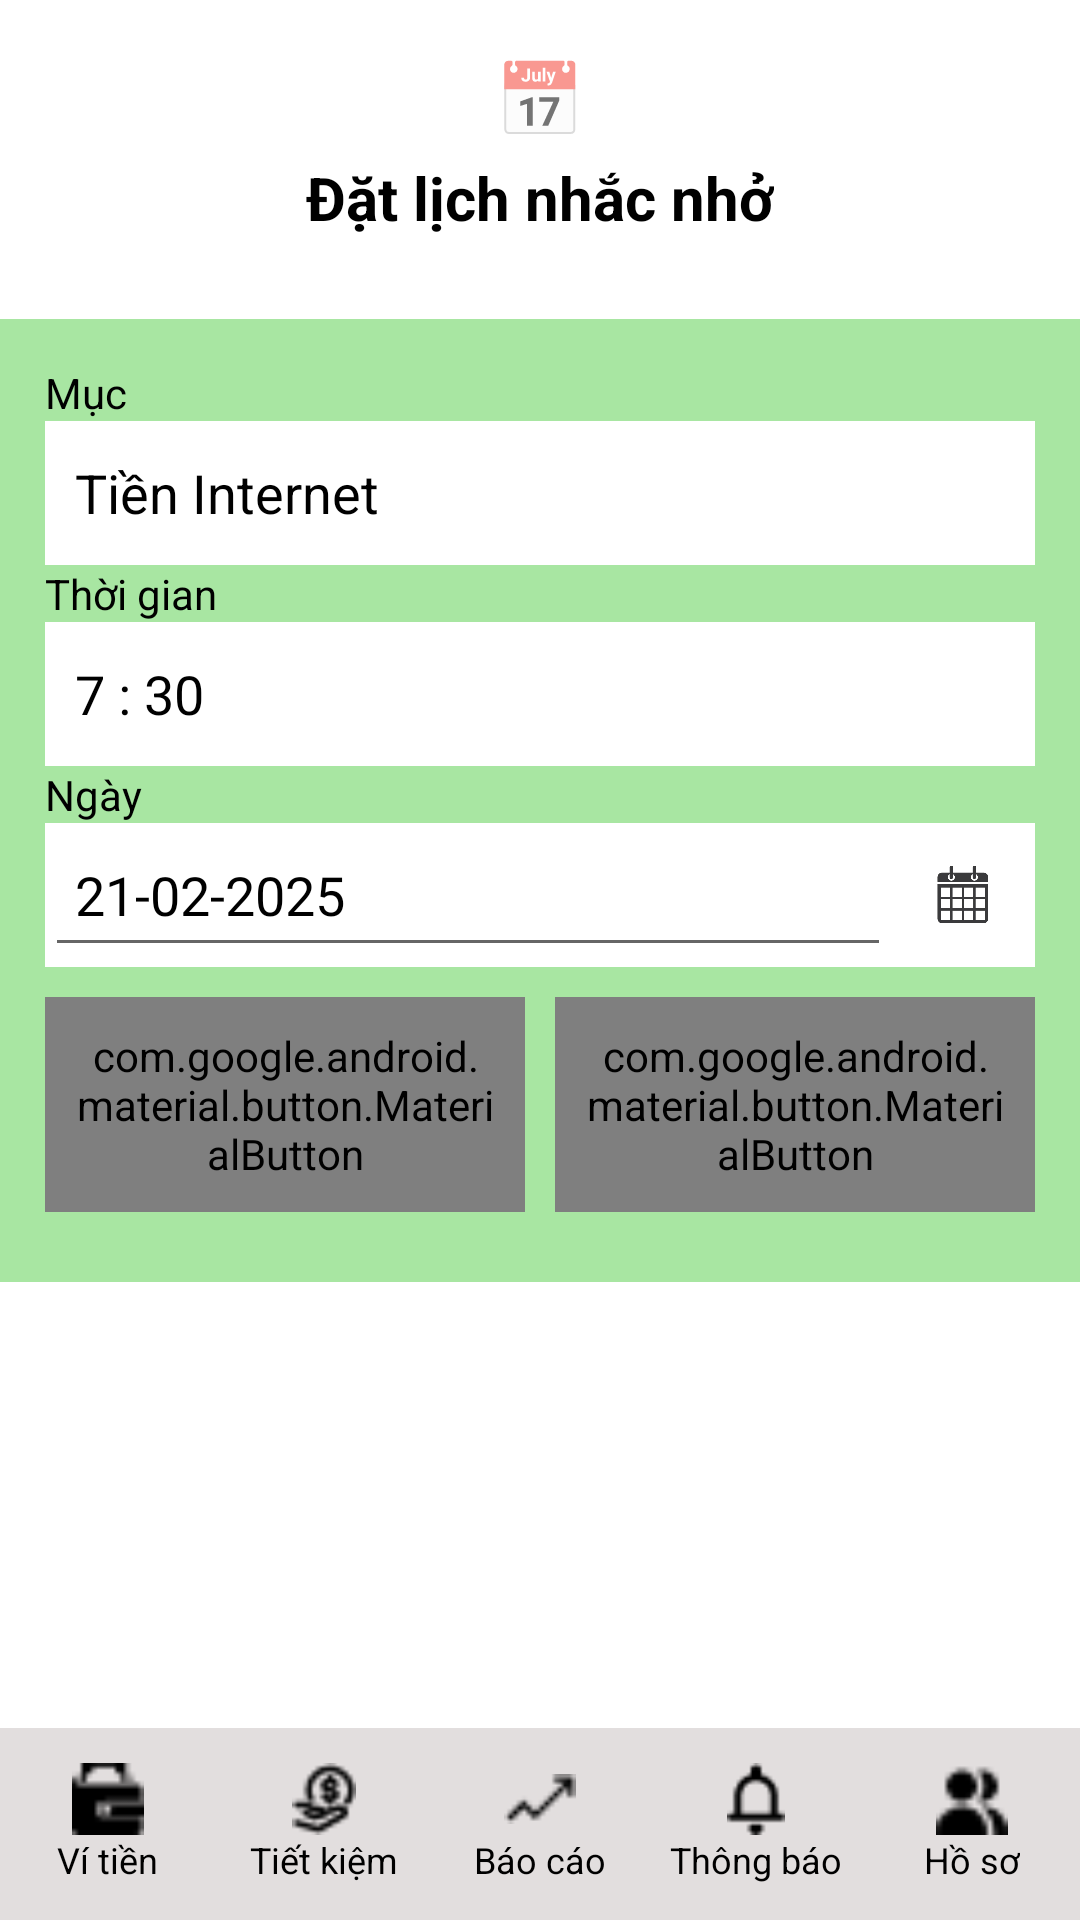

Locate icon controls on the screen. Image size 1080*1920, boxes as (x1, y1, x2, y2).
Show calendar: (891, 823, 1035, 967)
